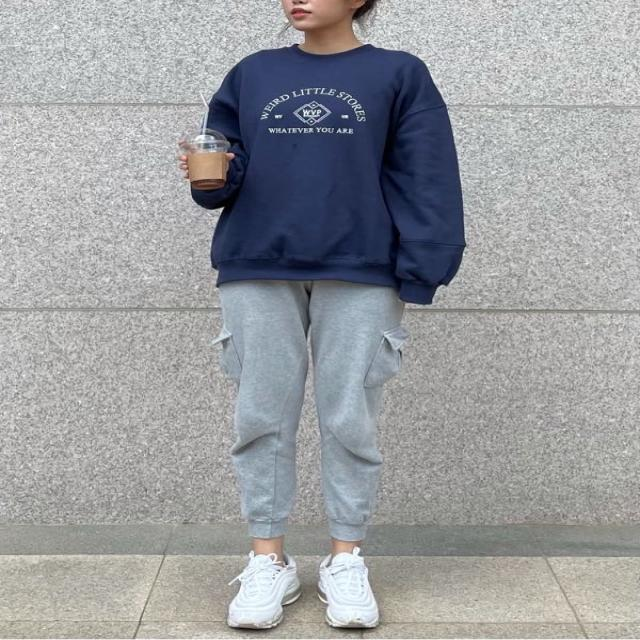mtm: (190, 40, 462, 303)
trainingpants: (219, 280, 411, 545)
